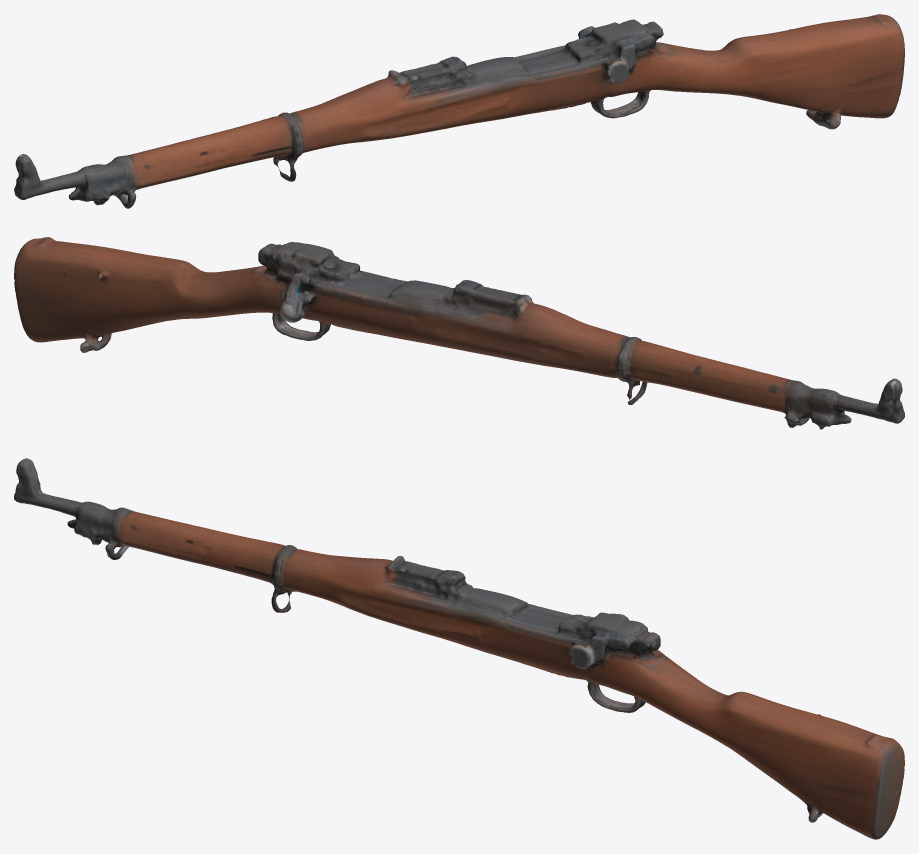
File: Springfield Bol.glb
3 views of the same model, one above another, from view 1: azimuth 30°, elevation 25°; view 2: azimuth 150°, elevation 25°; view 3: azimuth 330°, elevation 25° (orthographic).
Bounding box in the file's own units: 2 × 0.3689 × 0.1919.
1 material, 1 textured.
